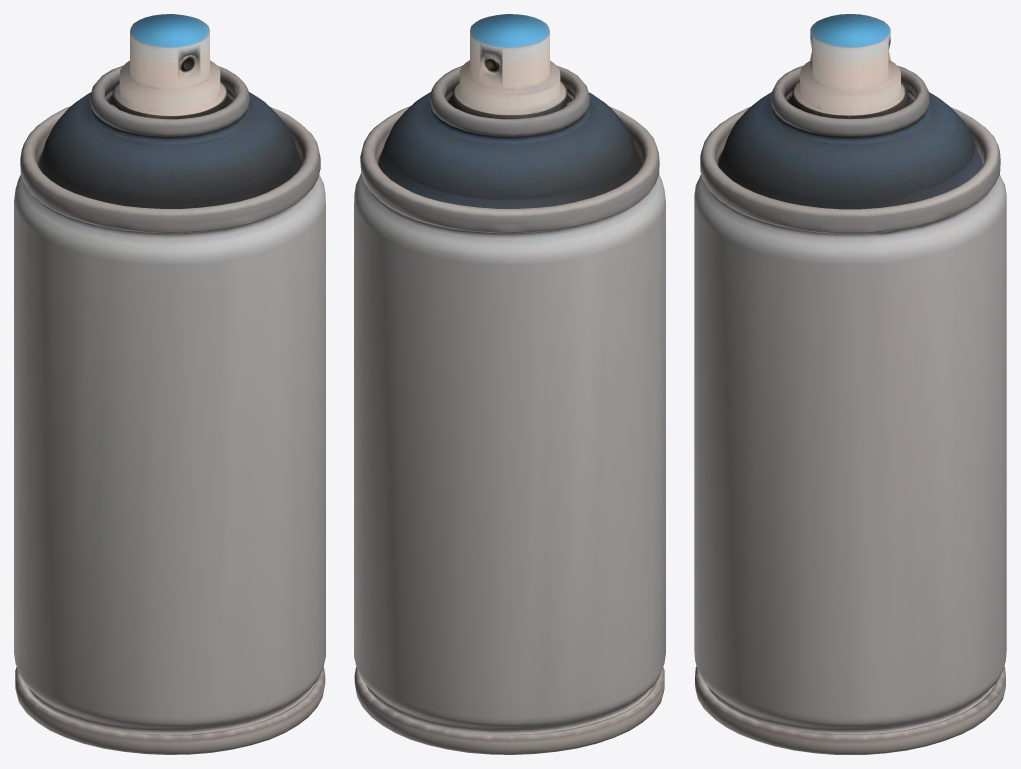
File: Misc__spray_paint_can_47f1f987_v4.cluster.glb
3 renders of one model, left to right at view 1: azimuth 30°, elevation 25°; view 2: azimuth 150°, elevation 25°; view 3: azimuth 270°, elevation 25°, orthographic.
Parts seen in each view (by area): view 1: material; view 2: material; view 3: material.
Boxes of the visible parts, left/top/right/bottom form: material: left=14, top=14, right=325, bottom=754; material: left=354, top=14, right=665, bottom=754; material: left=694, top=14, right=1006, bottom=754.
Size of the model in its own units: 0.8104 by 1.9 by 0.8143.
1 material, 1 textured.
